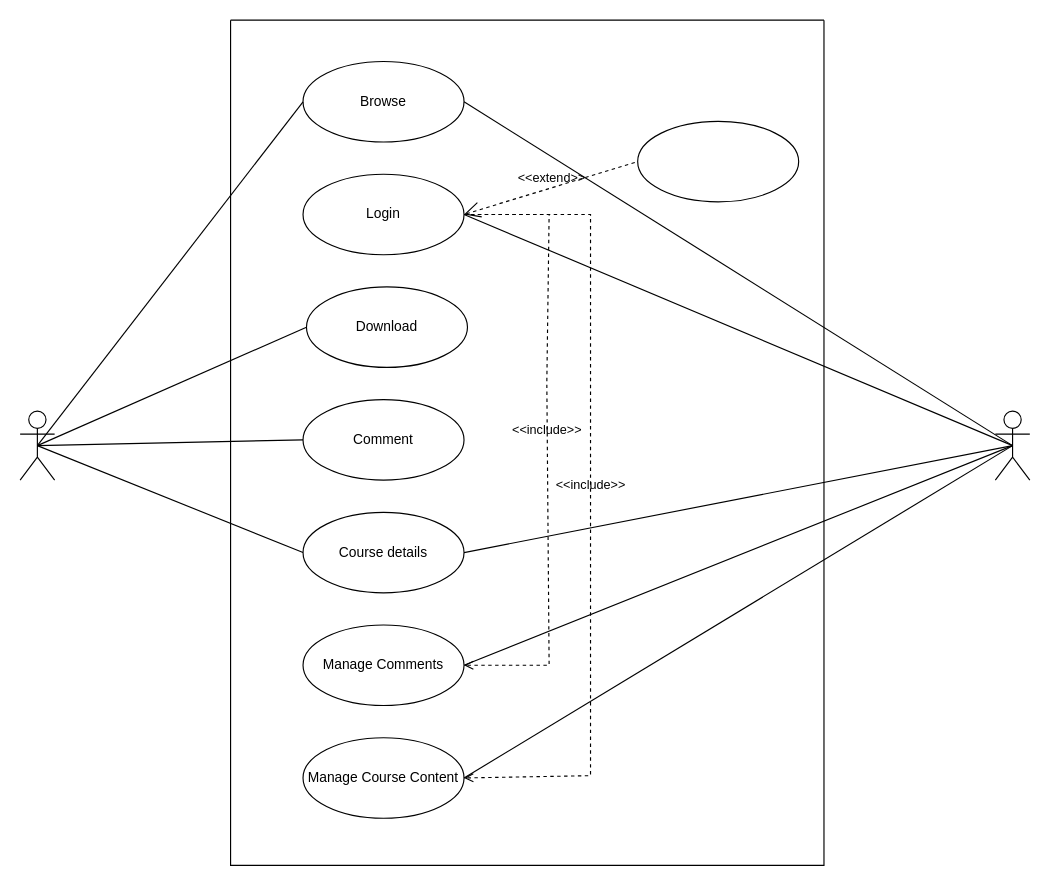
Image size: 1052x886. Some labels were removed from this diagram. Each missing label, with the centre of its shape:
"Admin" belongs at (x=1012, y=445).
"Forgot Password" belongs at (x=718, y=161).
"User" belongs at (x=37, y=445).
